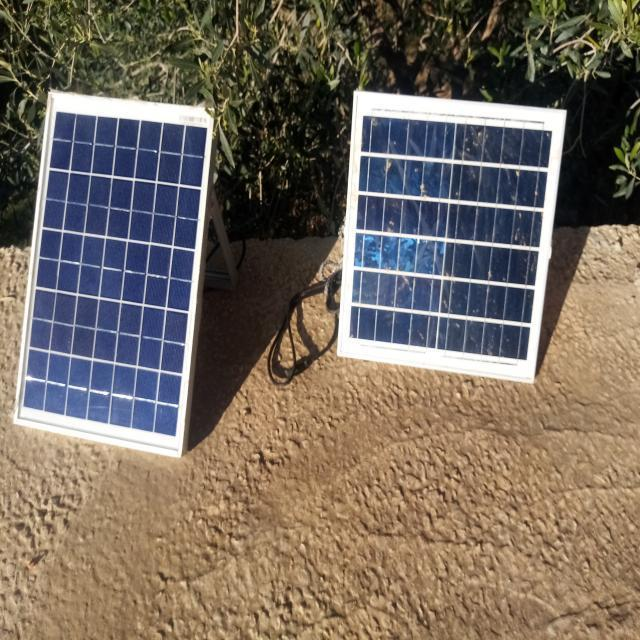Normal Solar Panel: (15, 90, 214, 455)
